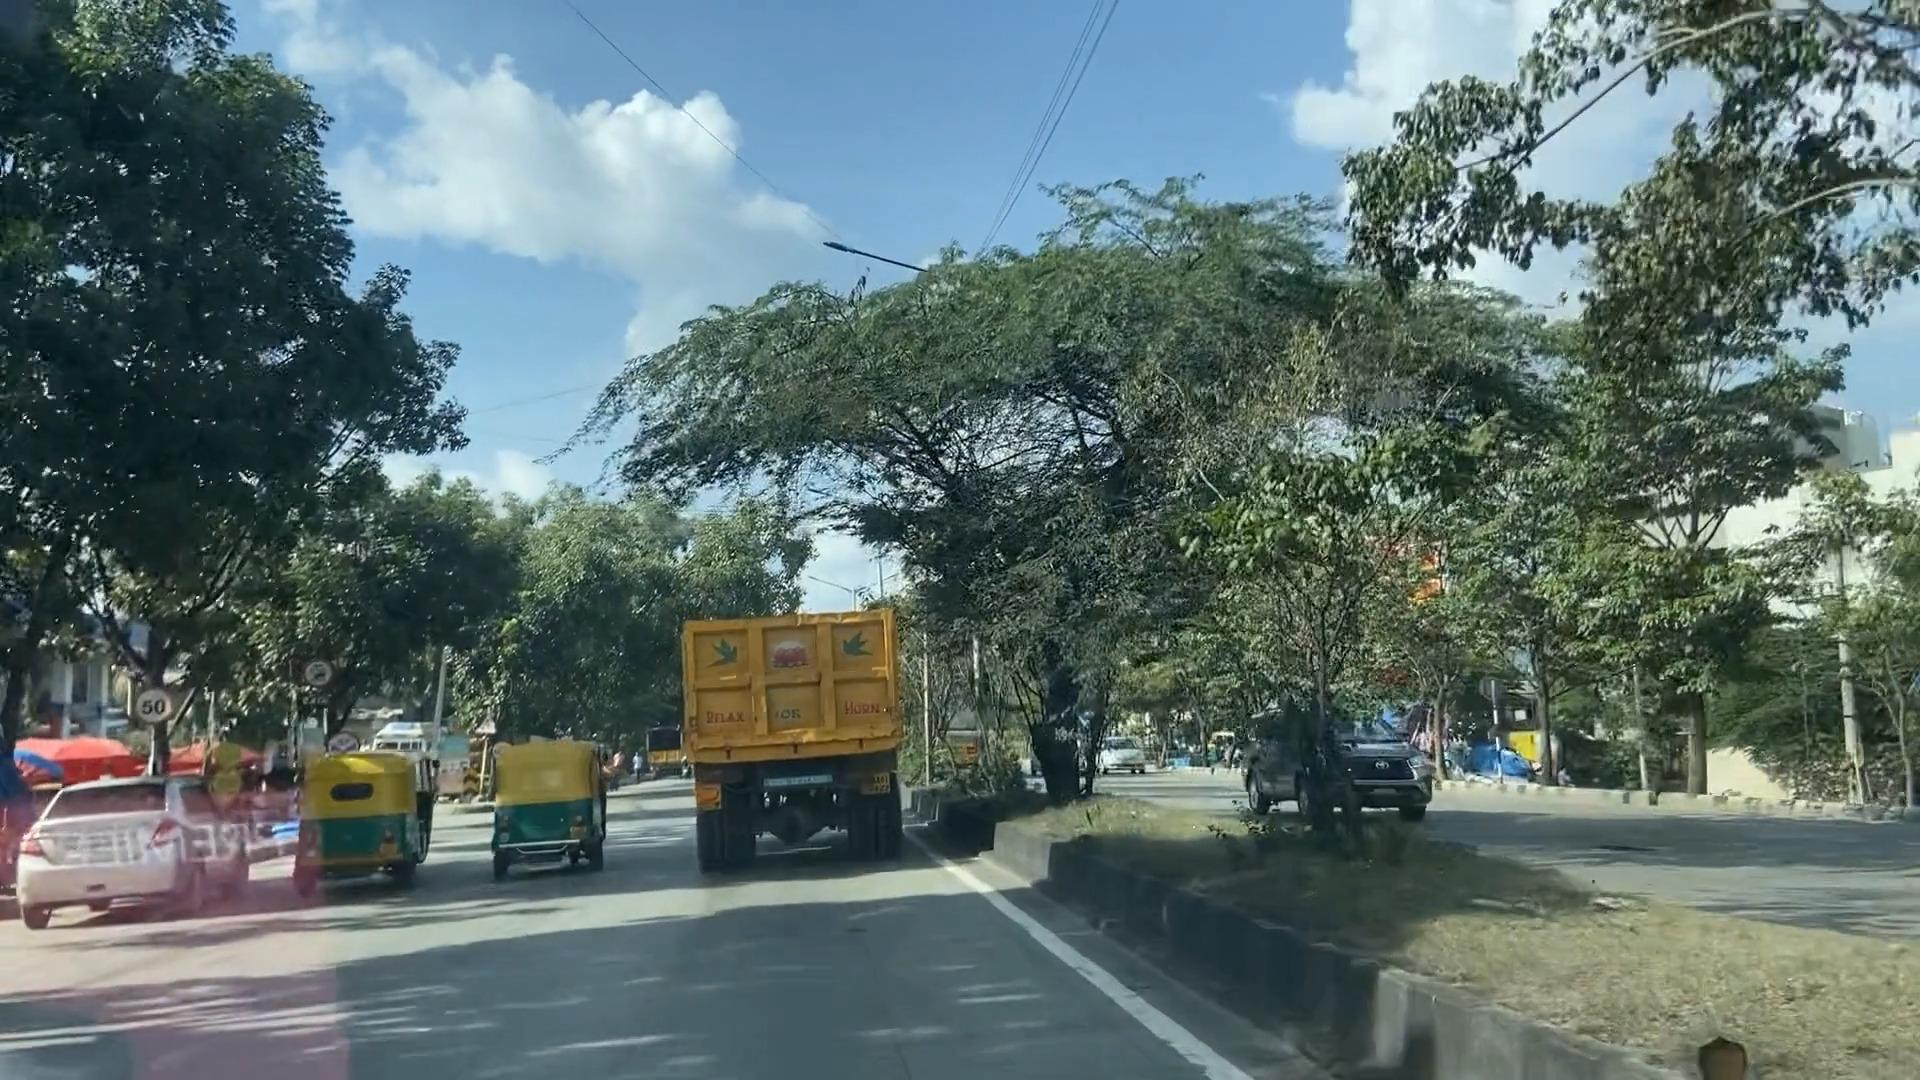HMV: (682, 601, 915, 886)
LMV: (295, 733, 440, 897), (67, 774, 252, 895), (492, 731, 605, 860)
